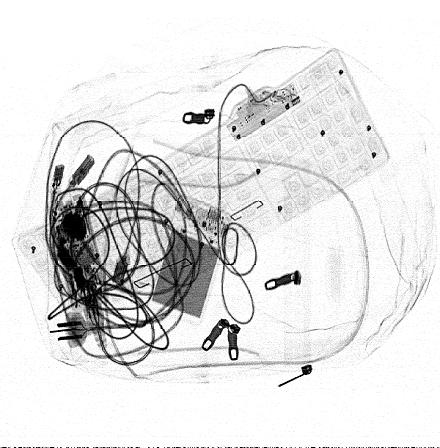Powerbank: (147, 194, 232, 323)
